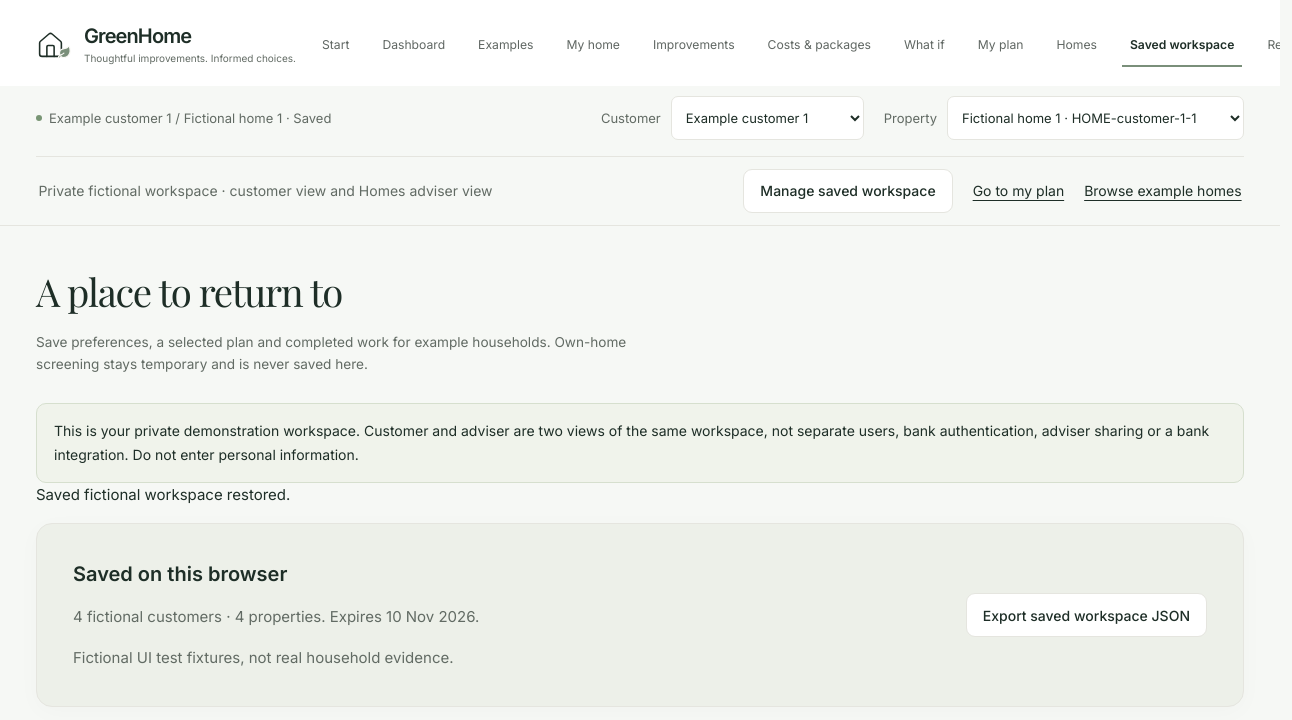
it: canonical property ownership in the UI › shows separate selectors and only the owner's 1 properties; never promotes roots
Select "Example customer 2" in the dropdown labelled "Customer" at (767, 118), box [671, 96, 864, 140]
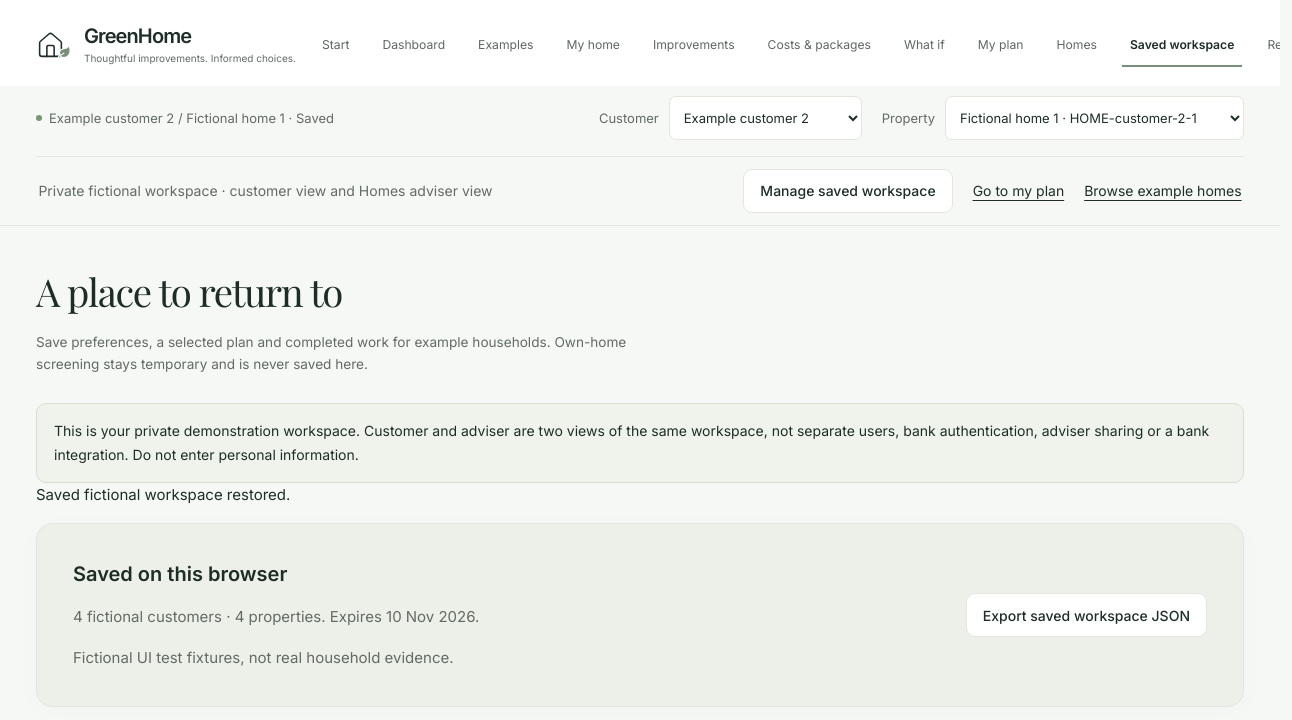
Check: the dropdown labelled "Property" shows "Fictional home 1 · HOME-customer-2-1", box [945, 96, 1244, 140]
